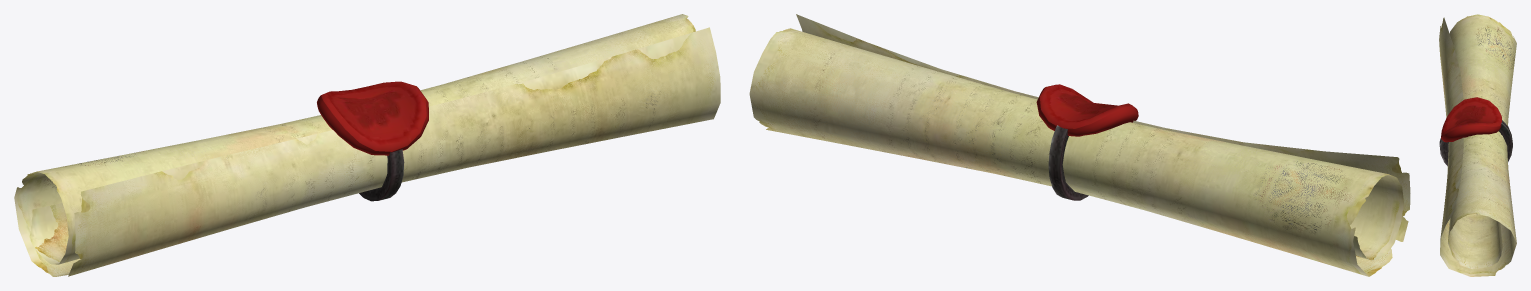
Rendered from scroll.glb.
The picture shows the model from 3 angles, left to right: view 1: azimuth 30°, elevation 25°; view 2: azimuth 150°, elevation 25°; view 3: azimuth 270°, elevation 25°; orthographic projection. The views are drawn at different scales.
Visible parts, largest first — view 1: Scroll_LP; view 2: Scroll_LP; view 3: Scroll_LP.
Part boxes in pixels (x1=…): Scroll_LP: x1=14, y1=14, x2=720, y2=276; Scroll_LP: x1=749, y1=14, x2=1410, y2=276; Scroll_LP: x1=1439, y1=14, x2=1516, y2=276.
Size of the model in its own units: 0.5 by 0.0786 by 0.0823.
Materials: 1 (1 with a texture image).
